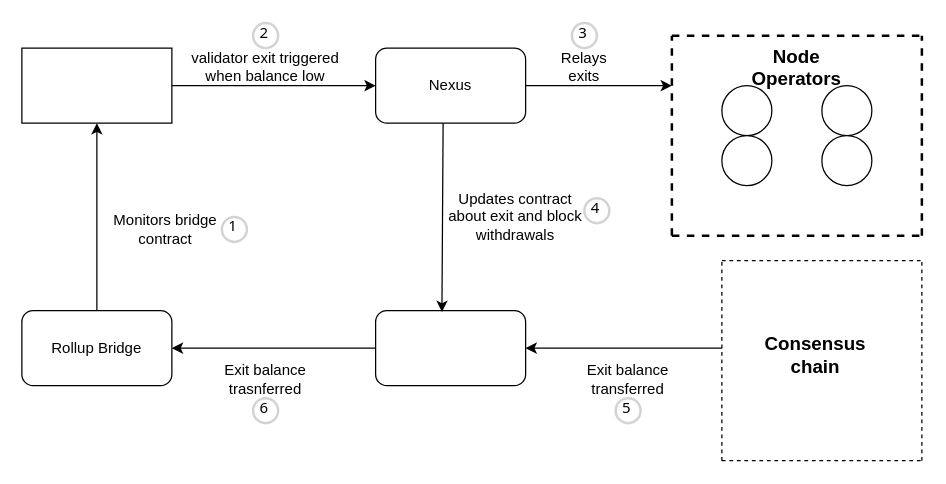
Image size: 946x484. Some labels were removed from this diagram. Each missing label, with the centre of its shape:
"Nexus Off-chain" goes at (96,85).
"withdrawal_address" goes at (450,347).
